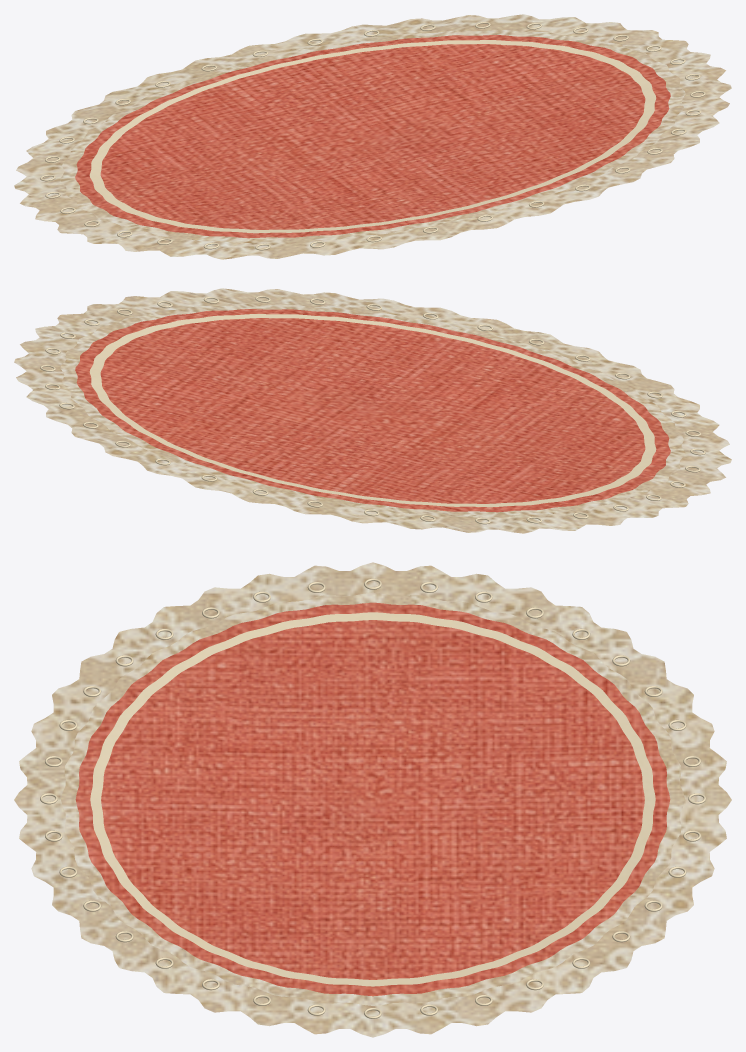
File: SM_InteriorAdditions_OvalRug.fbx
3 renders of one model, top to bottom at view 1: azimuth 30°, elevation 25°; view 2: azimuth 150°, elevation 25°; view 3: azimuth 270°, elevation 25°, orthographic. The views are drawn at different scales.
Visible parts, largest first — view 1: SM_InteriorAdditions_OvalRug; view 2: SM_InteriorAdditions_OvalRug; view 3: SM_InteriorAdditions_OvalRug.
Boxes of the visible parts, left/top/right/bottom form: SM_InteriorAdditions_OvalRug: left=14, top=14, right=731, bottom=259; SM_InteriorAdditions_OvalRug: left=14, top=288, right=731, bottom=533; SM_InteriorAdditions_OvalRug: left=14, top=562, right=731, bottom=1037.
Size of what is drawn, in the model's own units: 235 by 150 by 1.5.
